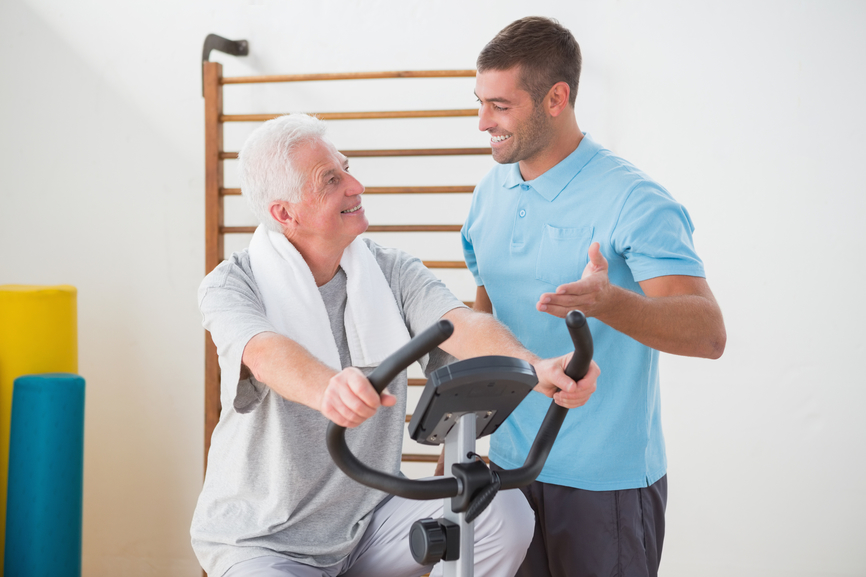gym_bike: (313, 298, 601, 577)
